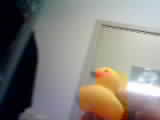duck: (76, 59, 130, 112)
